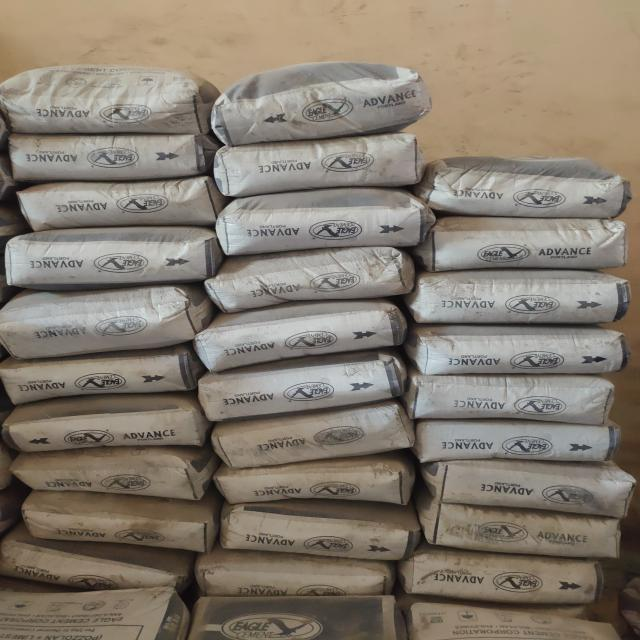Cement: (1, 65, 215, 133), (223, 69, 437, 137), (196, 308, 405, 369), (426, 160, 631, 216), (7, 295, 192, 356), (11, 233, 210, 289), (222, 196, 421, 252), (220, 135, 426, 189), (26, 495, 219, 549), (3, 352, 198, 404), (8, 398, 203, 450), (208, 359, 403, 411), (221, 413, 416, 465), (430, 221, 632, 268), (4, 134, 201, 181), (21, 186, 218, 233), (10, 451, 212, 496), (407, 555, 607, 600), (430, 469, 631, 511), (214, 259, 411, 301), (425, 514, 626, 555), (423, 332, 629, 371), (421, 279, 627, 318), (219, 468, 414, 507), (222, 516, 417, 555), (422, 425, 616, 464), (417, 377, 611, 416), (195, 558, 390, 596), (1, 550, 191, 585)
